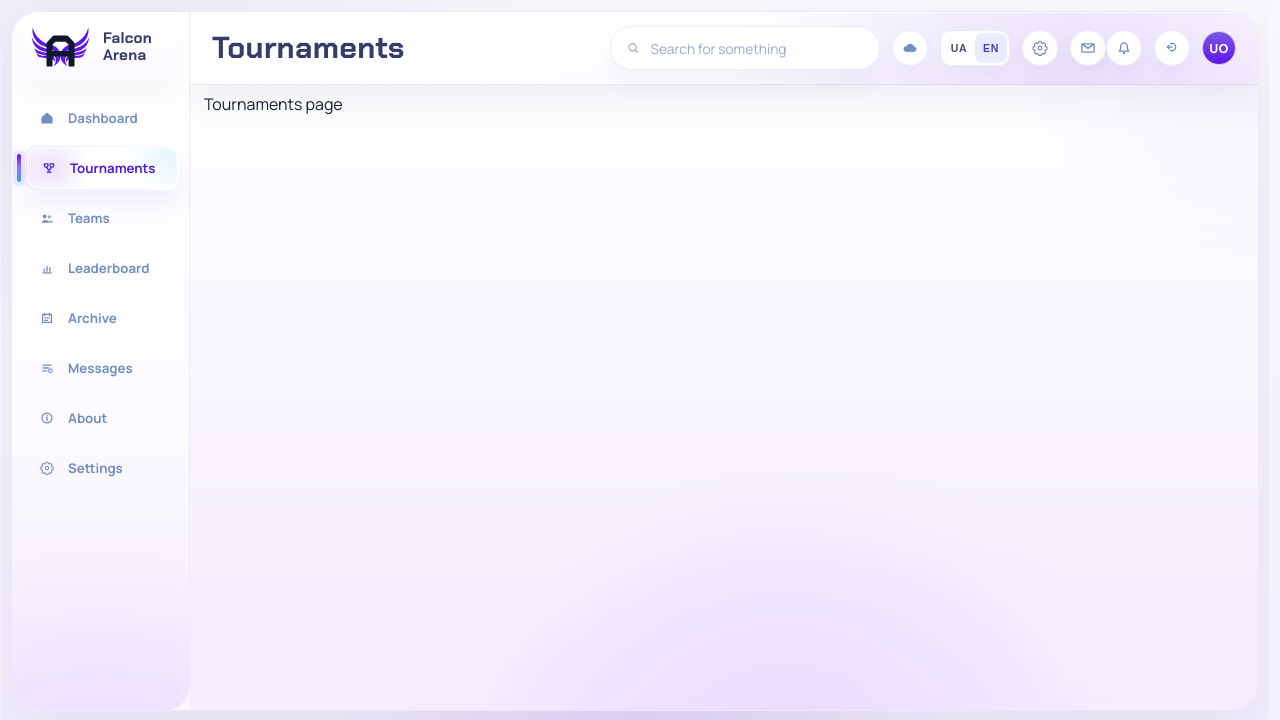
Test: AppShell › cycles and persists theme mode from the topbar
Step 1. Click the button named "Switch to blue theme" → [910, 48], box [892, 30, 928, 66]
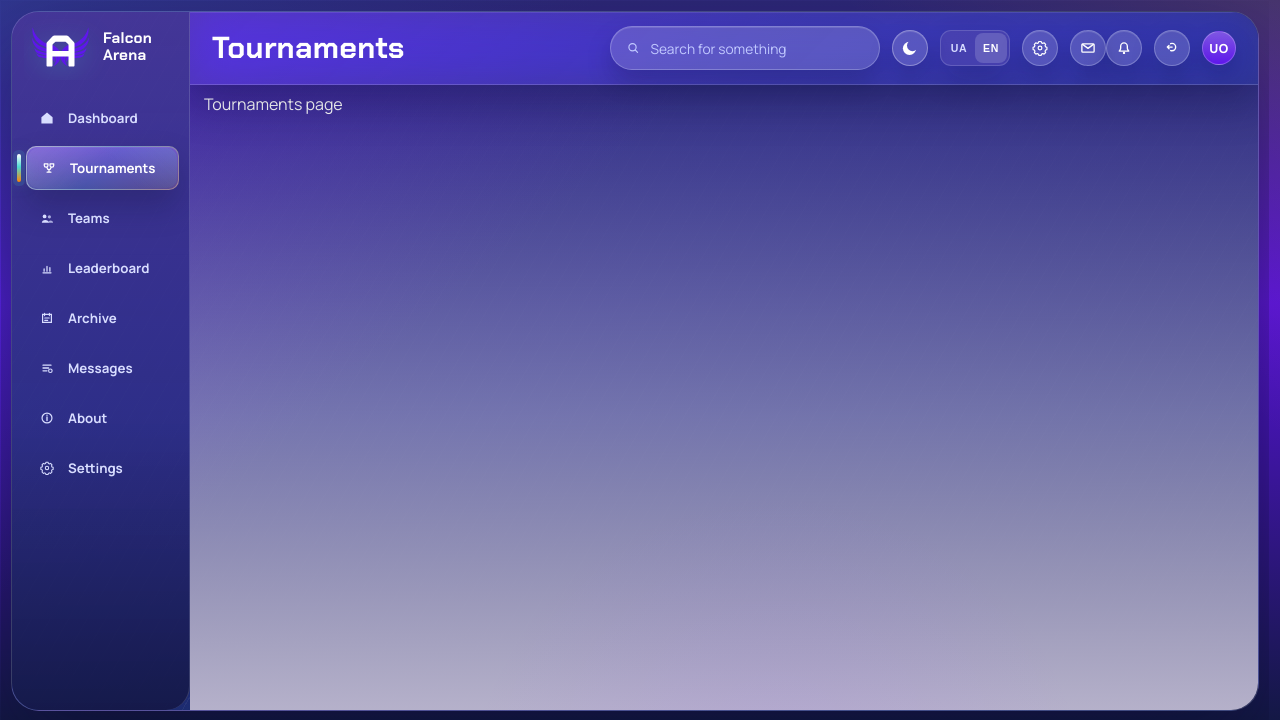
Result: the button named "Switch to dark theme" is shown
Step 2. Click the button named "Switch to dark theme" → [910, 48], box [892, 30, 928, 66]
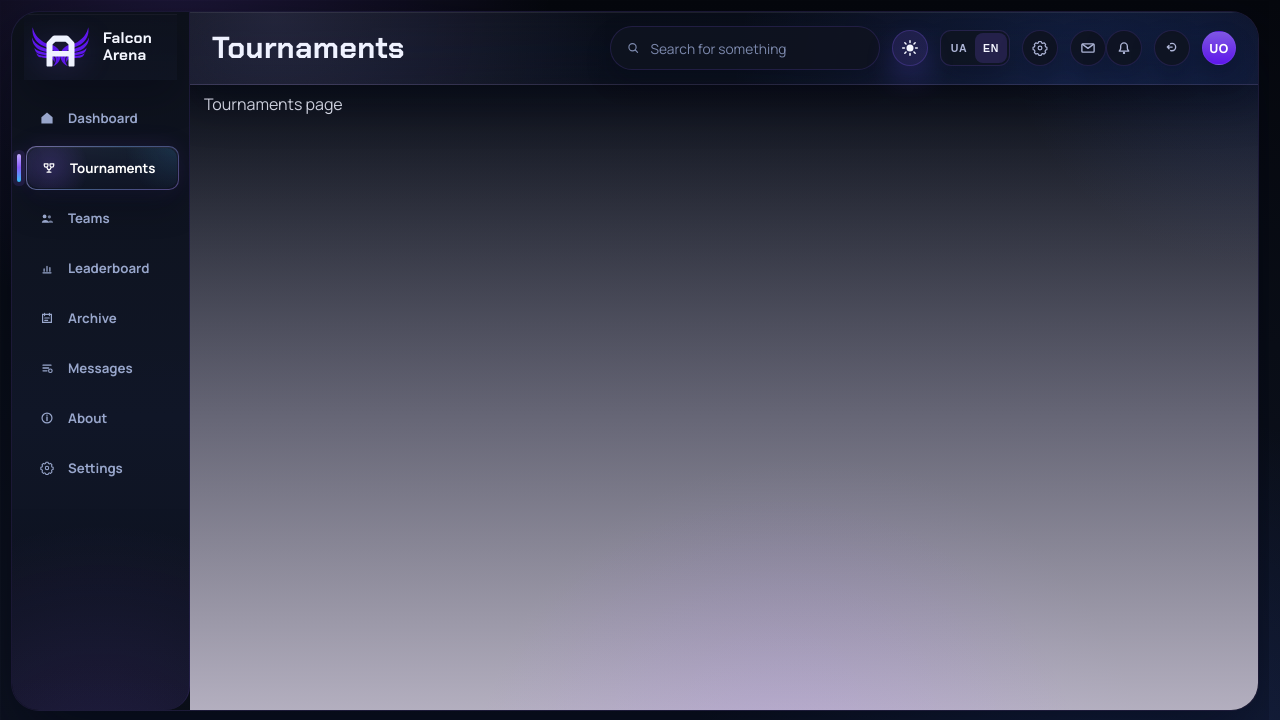
Result: the button named "Switch to light theme" is shown at [892, 30, 928, 66]
